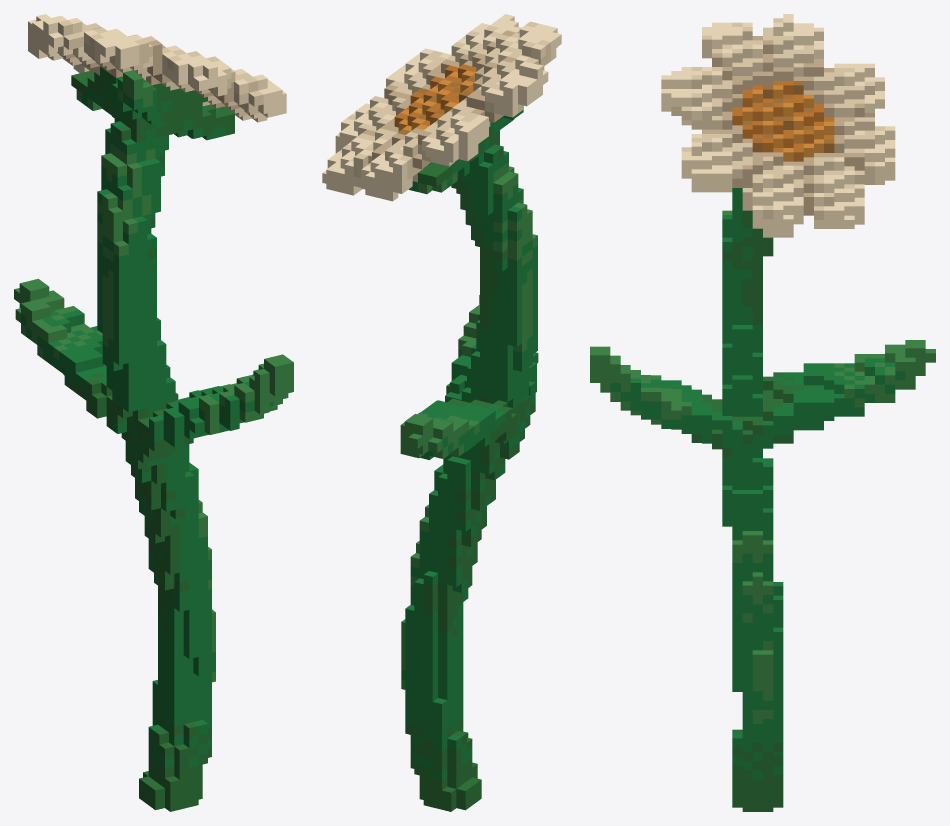
Rendered from Daisy.fbx.
3 renders of one model, left to right at view 1: azimuth 30°, elevation 25°; view 2: azimuth 150°, elevation 25°; view 3: azimuth 270°, elevation 25°, orthographic. The views are drawn at different scales.
Parts seen in each view (by area): view 1: Daisy3; view 2: Daisy3; view 3: Daisy3.
Boxes of the visible parts, left/top/right/bottom form: Daisy3: left=14, top=14, right=293, bottom=811; Daisy3: left=322, top=14, right=561, bottom=811; Daisy3: left=590, top=14, right=935, bottom=811.
Bounding box in the file's own units: 66 × 240 × 102.
1 material, 1 textured.
